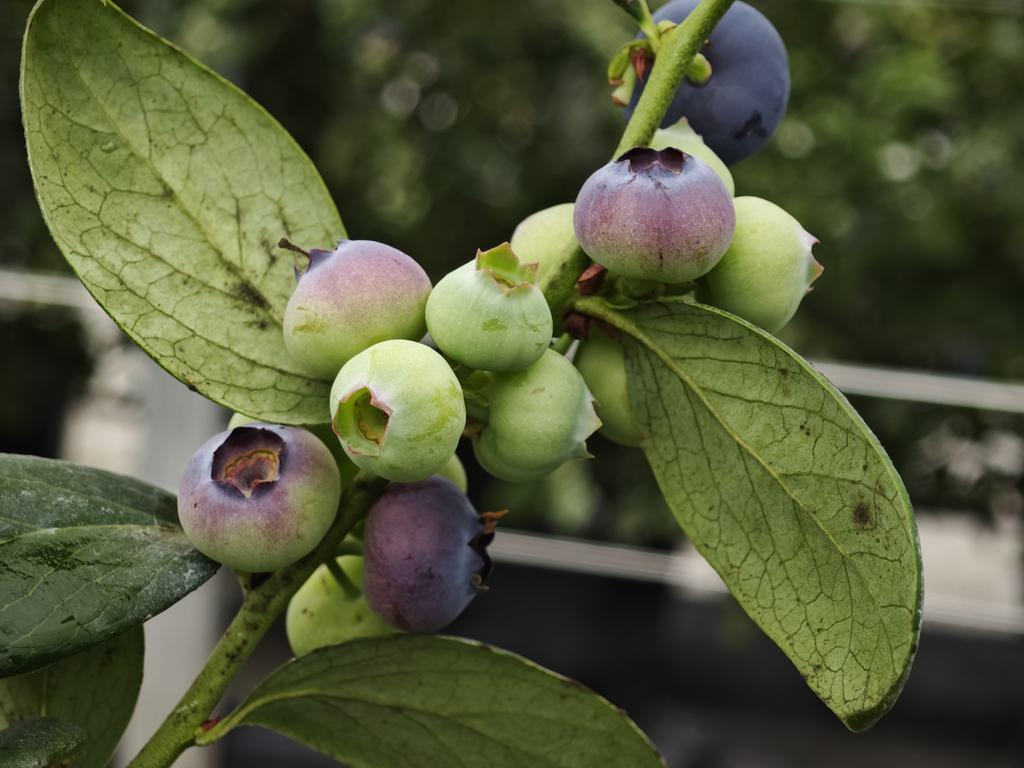Semi-RipeBlueBerry: (571, 148, 741, 280), (180, 428, 339, 563), (368, 482, 499, 638), (286, 240, 431, 372)
UnripeBlueBerry: (324, 341, 481, 484), (422, 259, 564, 370)
